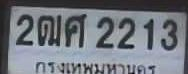1: (143, 18, 153, 49)
2: (95, 16, 113, 48), (15, 13, 33, 45), (116, 17, 134, 48)
3: (160, 18, 177, 50)
A18: (37, 14, 61, 46)
A38: (64, 13, 86, 47)
BKK: (34, 59, 157, 74)
